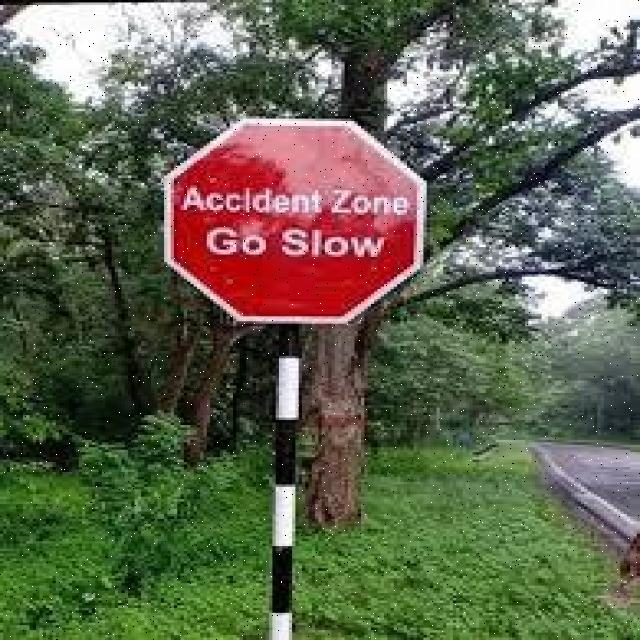go_slow: (159, 119, 434, 328)
